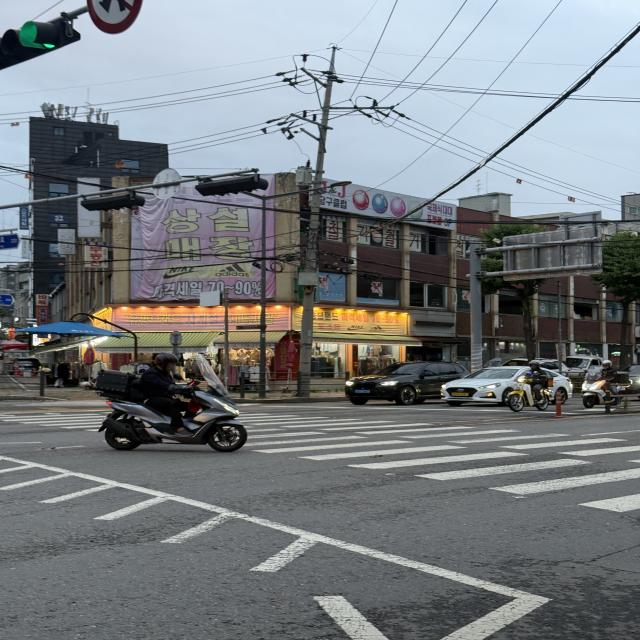car: (331, 351, 482, 407), (436, 359, 579, 410)
motorcycle: (88, 340, 267, 463), (573, 354, 636, 412), (501, 356, 559, 414)
